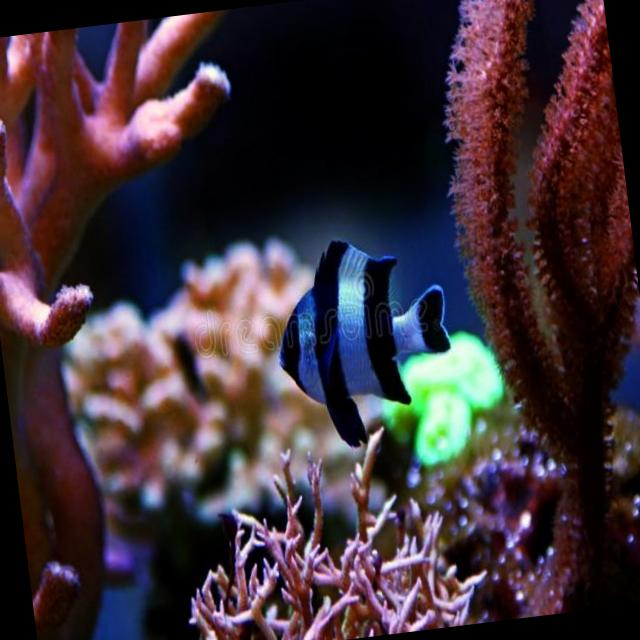Three_striped DasmselFish: (262, 225, 464, 458)
